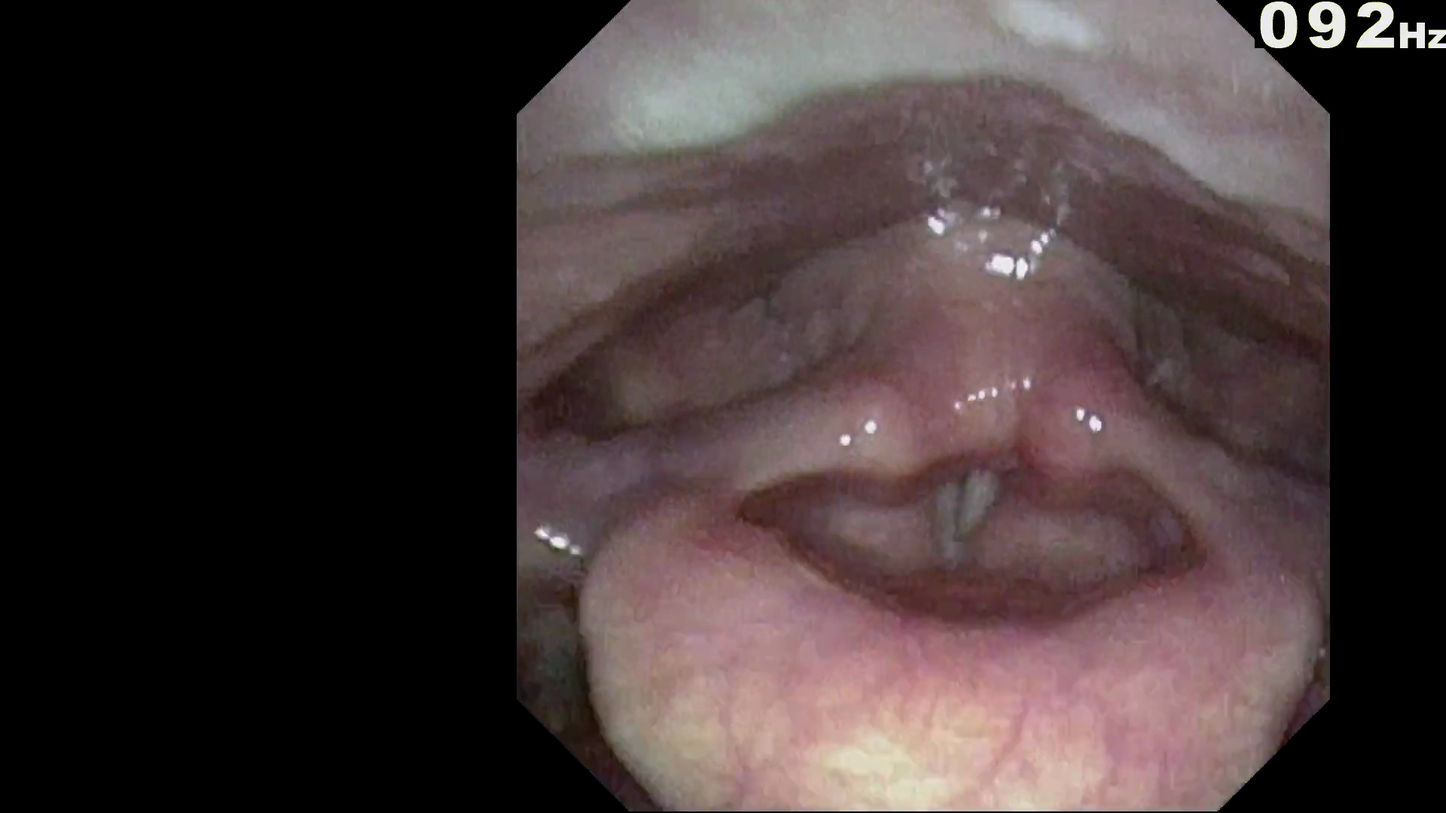epiglottis: (613, 344, 1226, 572)
